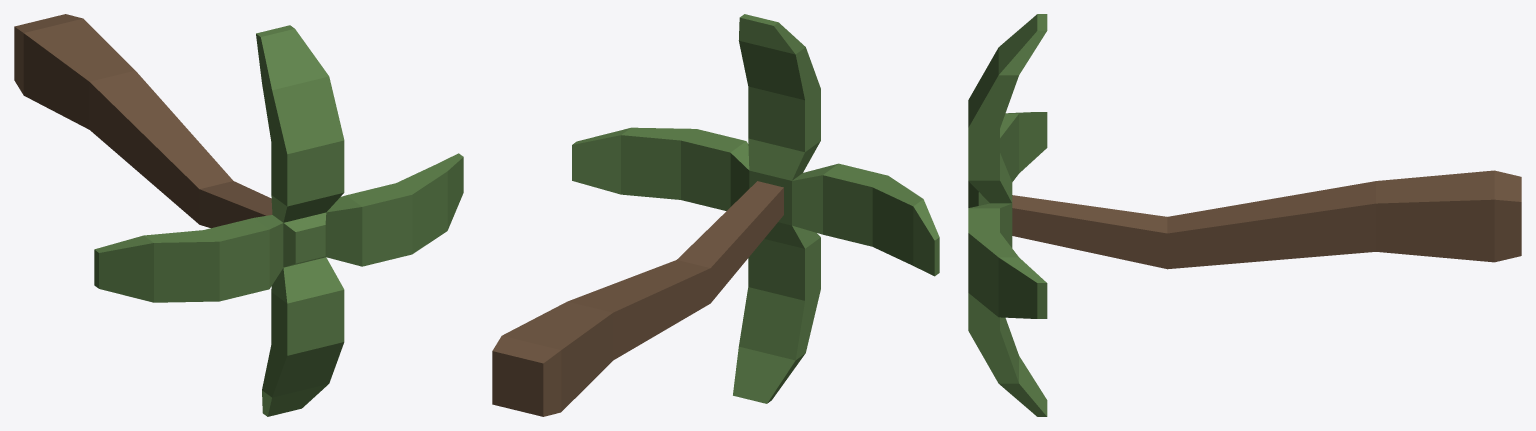
The model's file is tree-model-palm-36-ft.obj.
3 renders of one model, left to right at view 1: azimuth 30°, elevation 25°; view 2: azimuth 150°, elevation 25°; view 3: azimuth 270°, elevation 25°, orthographic.
Parts seen in each view (by area): view 1: tree-model-palm-36-ft; view 2: tree-model-palm-36-ft; view 3: tree-model-palm-36-ft.
Part boxes in pixels (x1,y1,x2,y2): tree-model-palm-36-ft: (14,14,463,416); tree-model-palm-36-ft: (492,14,939,416); tree-model-palm-36-ft: (968,14,1521,416).
Bounding box in the file's own units: 330 × 330 × 432.
